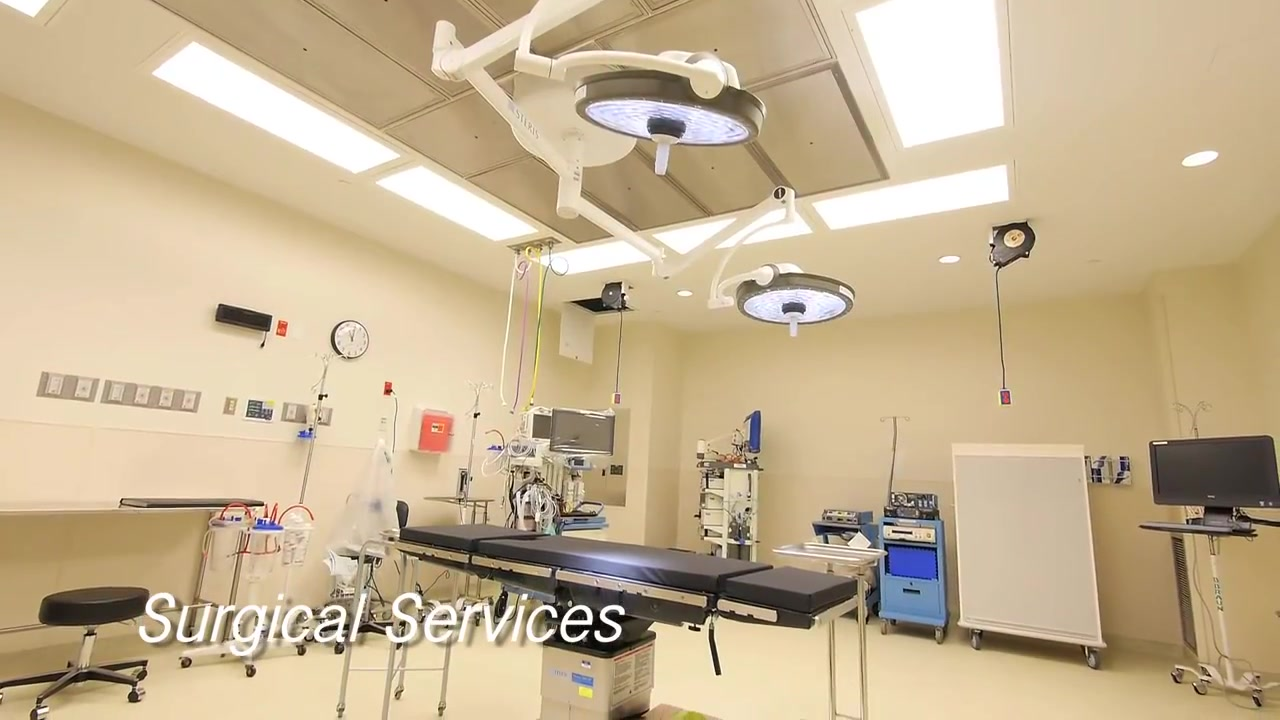bedside_monitor: (550, 406, 615, 456), (527, 402, 553, 440)
breathing_tube: (515, 488, 557, 531)
chair: (5, 586, 155, 720)
computer: (1148, 435, 1280, 507)
electrosurgical_unit: (819, 507, 874, 524)
iv_pole: (295, 354, 345, 515), (460, 378, 493, 525), (883, 415, 907, 516), (1172, 393, 1216, 438)
medical_waste_container: (402, 402, 456, 457)
operating_bed: (393, 497, 857, 714)
surgical_light: (575, 72, 766, 175), (735, 272, 859, 336)
utility_cart: (331, 527, 466, 719), (772, 533, 888, 720)
